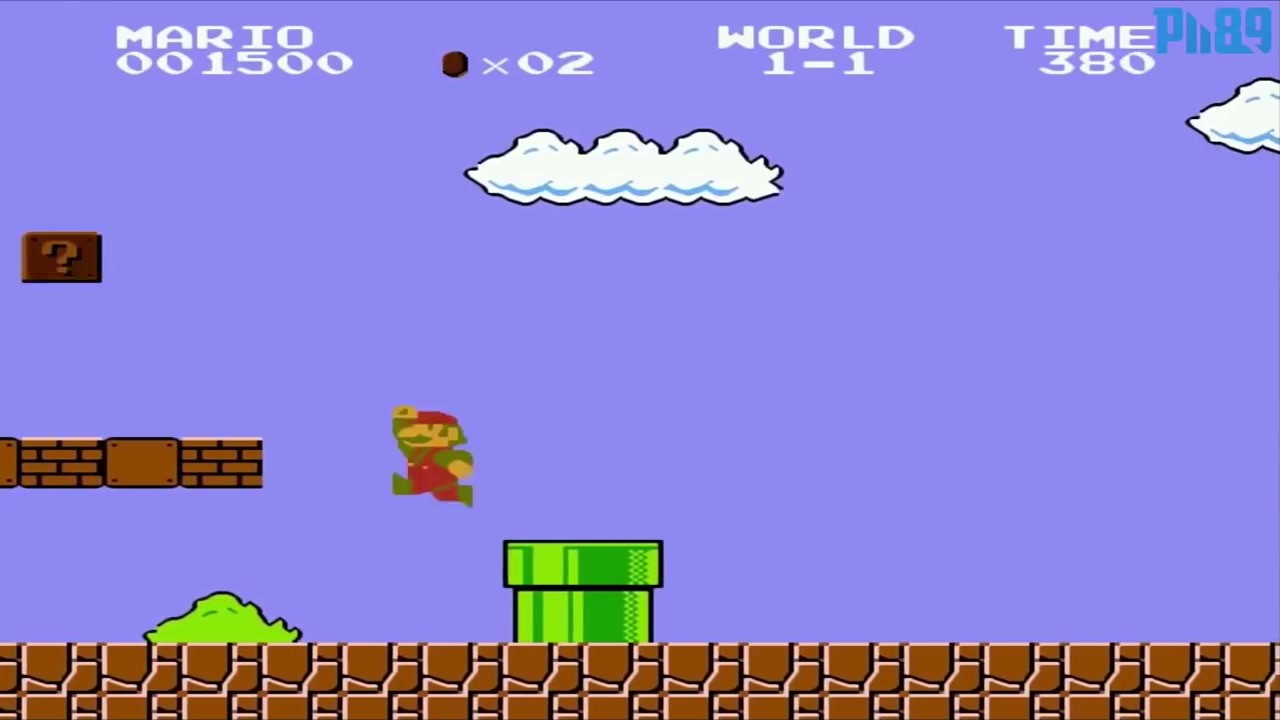mario: (379, 399, 481, 513)
